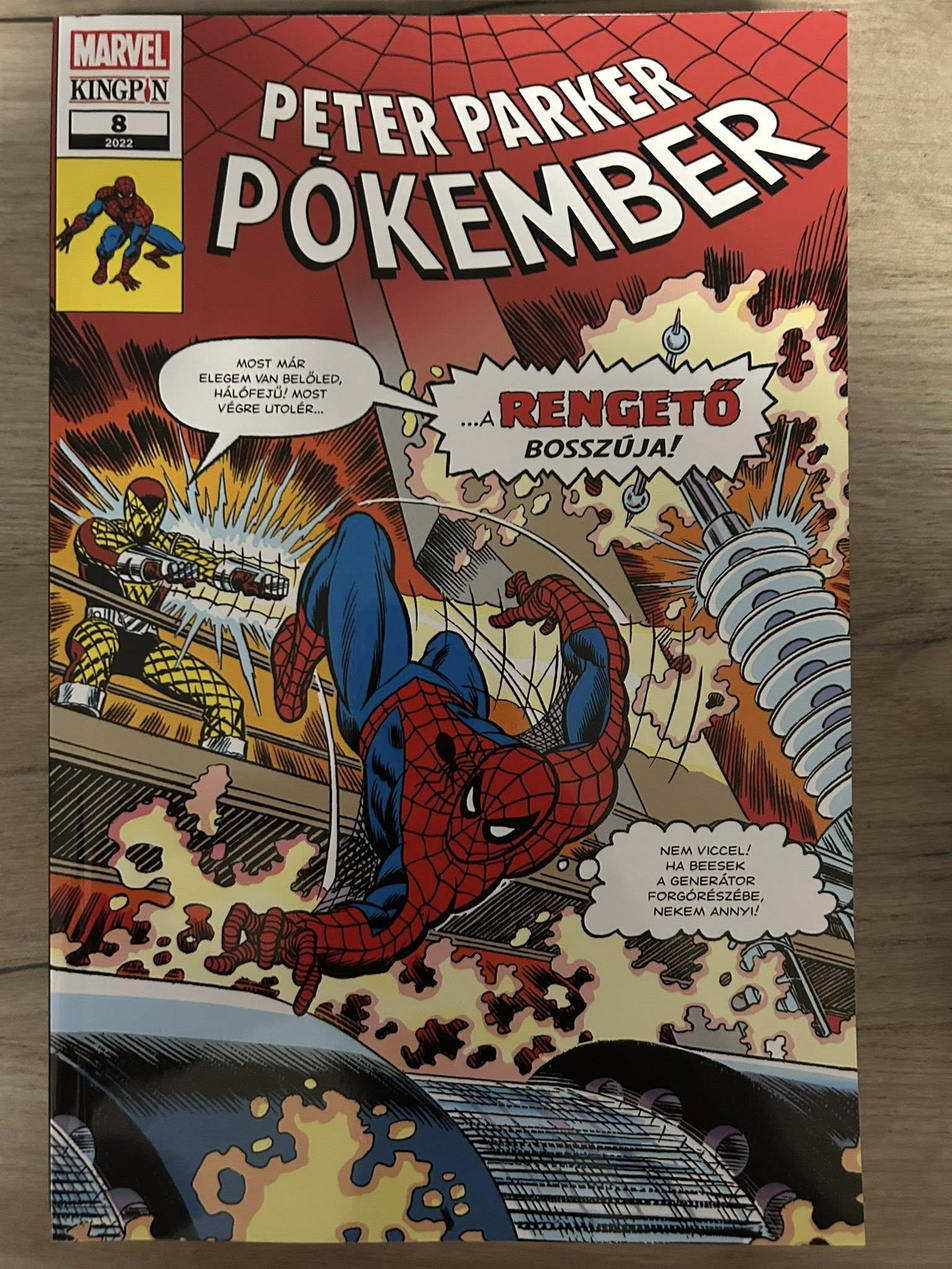comic: (44, 11, 862, 1248)
